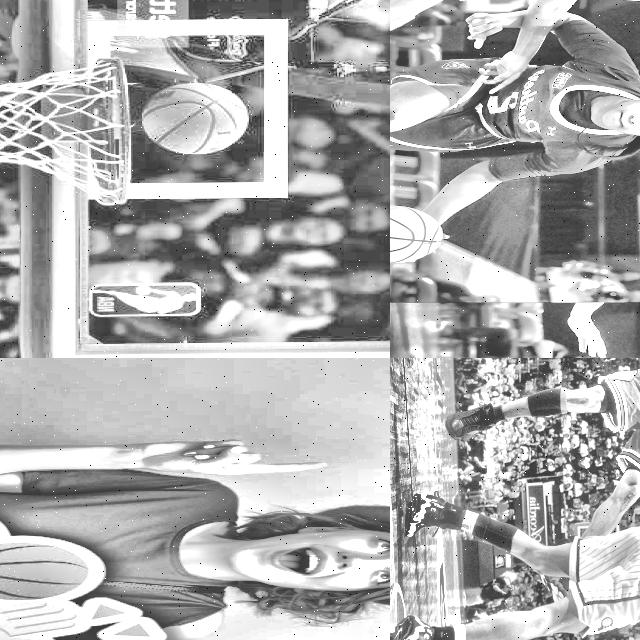Basketball: (139, 82, 248, 154), (390, 206, 442, 263)
